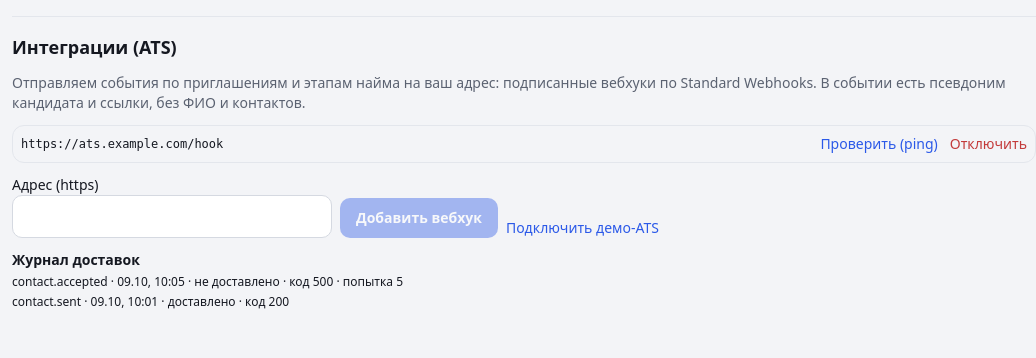
Test: integrations (ATS) › shows the server refusal of a private address
The width and height of the screenshot is (1036, 358).
Type "https://10.0.0.5/hook" into the field labelled "Адрес (https)" at [172, 217], box x1=12 y1=195 x2=332 y2=238
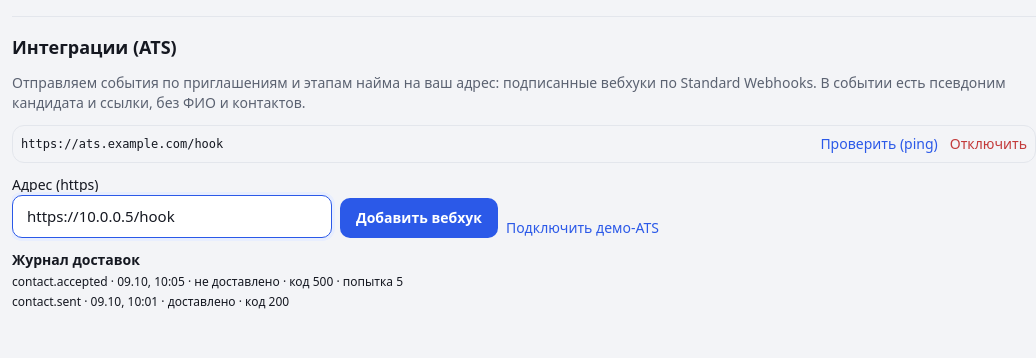
Click the button "Добавить вебхук" at [419, 218], box x1=340 y1=198 x2=498 y2=238
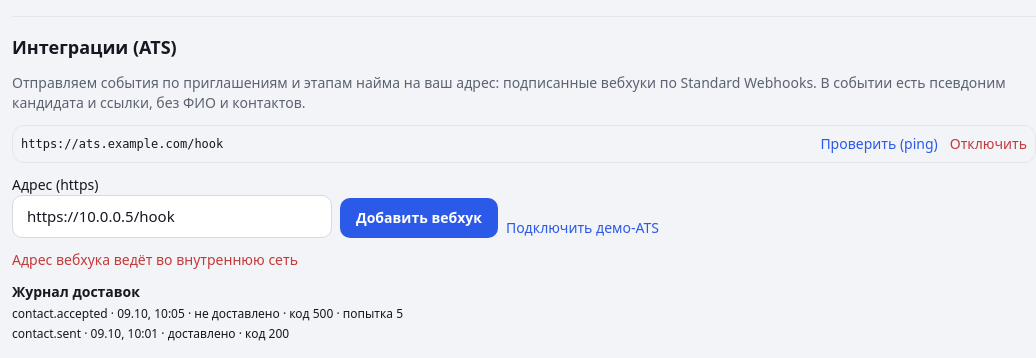
Expected: the message reads "Адрес вебхука ведёт во внутреннюю сеть", x1=12 y1=250 x2=298 y2=269
